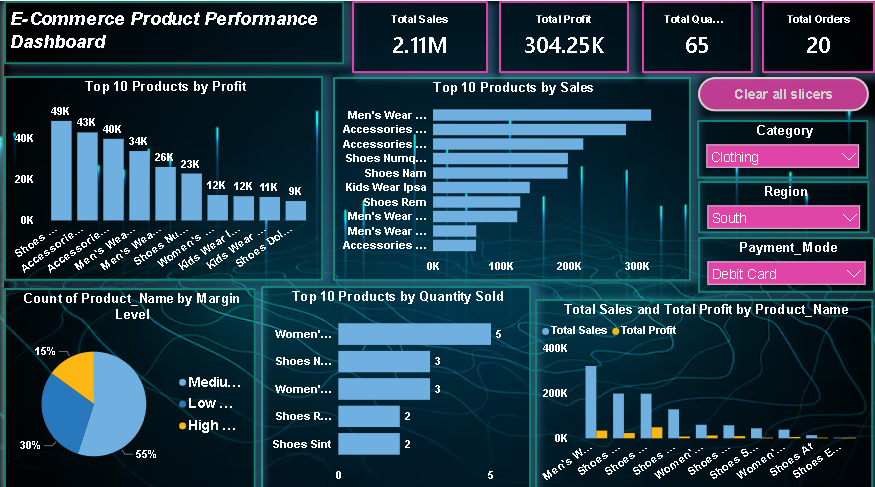

Layout of this report page (visuals, bound fields, positions):
{"tool":"powerbi","page":{"name":"Page 1","canvas":[1280,720],"ordinal":0},"visuals":[{"type":"clusteredBarChart","title":"Top 10 Products by Sales","fields":{"Category":["ecommerce_sales ecommerce_sales.Product_Name"],"Y":["ecommerce_sales ecommerce_sales.Total Sales"]},"box":[483.4,111.7,526,299.8],"z":4},{"type":"columnChart","title":"Top 10 Products by Profit","fields":{"Category":["ecommerce_sales ecommerce_sales.Product_Name"],"Y":["ecommerce_sales ecommerce_sales.Total Profit"]},"box":[0,110.2,468.7,301.2],"z":5},{"type":"clusteredBarChart","title":"Top 10 Products by Quantity Sold","fields":{"Category":["ecommerce_sales ecommerce_sales.Product_Name"],"Y":["ecommerce_sales ecommerce_sales.Total Quantity"]},"box":[377.6,418.8,396.7,299.8],"z":6},{"type":"clusteredColumnChart","fields":{"Category":["ecommerce_sales ecommerce_sales.Product_Name"],"Y":["ecommerce_sales ecommerce_sales.Total Sales","ecommerce_sales ecommerce_sales.Total Profit"]},"box":[780.2,437.9,496.7,280.7],"z":7},{"type":"pieChart","fields":{"Category":["ecommerce_sales ecommerce_sales.Margin Level"],"Y":["CountNonNull(ecommerce_sales ecommerce_sales.Product_Name)"]},"box":[0,421.7,370.3,296.8],"z":8},{"type":"slicer","title":"Category","fields":{"Values":["ecommerce_sales ecommerce_sales.Category"]},"box":[1018.6,175.4,252.4,85.9],"z":9},{"type":"slicer","title":"Region","fields":{"Values":["ecommerce_sales ecommerce_sales.Region"]},"box":[1020.4,265,252.4,77],"z":10},{"type":"textbox","box":[0,0,500.4,92.6],"z":11},{"type":"cardVisual","fields":{"Data":["ecommerce_sales ecommerce_sales.Total Sales"]},"box":[511.3,0,199.8,105.8],"z":12},{"type":"cardVisual","fields":{"Data":["ecommerce_sales ecommerce_sales.Total Profit"]},"box":[727.3,0,191,105.8],"z":13},{"type":"cardVisual","fields":{"Data":["ecommerce_sales ecommerce_sales.Total Quantity"]},"box":[937.5,0,163.1,105.8],"z":14},{"type":"cardVisual","fields":{"Data":["ecommerce_sales ecommerce_sales.Total Orders"]},"box":[1113.8,0,166,105.8],"z":15},{"type":"slicer","title":"Payment_Mode","fields":{"Values":["ecommerce_sales ecommerce_sales.Payment_Mode"]},"box":[1020.4,347.3,259.6,82.3],"z":16},{"type":"actionButton","box":[1019.8,111.5,251.2,50.5],"z":17}]}

Visuals, with their boxes in screenshot pixels (x1, y1, x2, y2), scaled from the page's 1280x720 canvas onto the 875x487 screenshot:
"Top 10 Products by Sales" clusteredBarChart: 330:76:690:278
"Top 10 Products by Profit" columnChart: 0:75:320:278
"Top 10 Products by Quantity Sold" clusteredBarChart: 258:283:529:486
clusteredColumnChart - ecommerce_sales ecommerce_sales.Product_Name x ecommerce_sales ecommerce_sales.Total Sales: 533:296:873:486
pieChart - ecommerce_sales ecommerce_sales.Margin Level x CountNonNull(ecommerce_sales ecommerce_sales.Product_Name): 0:285:253:486
"Category" slicer: 696:119:869:177
"Region" slicer: 698:179:870:231
textbox: 0:0:342:63
cardVisual - ecommerce_sales ecommerce_sales.Total Sales: 350:0:486:72
cardVisual - ecommerce_sales ecommerce_sales.Total Profit: 497:0:628:72
cardVisual - ecommerce_sales ecommerce_sales.Total Quantity: 641:0:752:72
cardVisual - ecommerce_sales ecommerce_sales.Total Orders: 761:0:874:72
"Payment_Mode" slicer: 698:235:874:291
actionButton: 697:75:869:110
